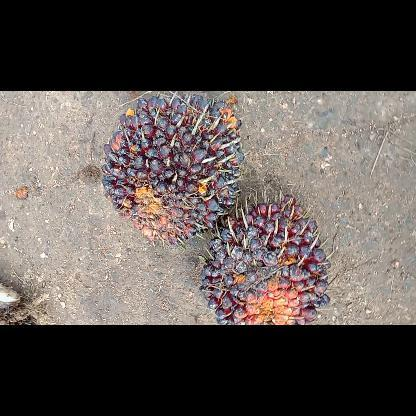Kurang masak: (97, 90, 249, 248), (197, 191, 332, 324)
